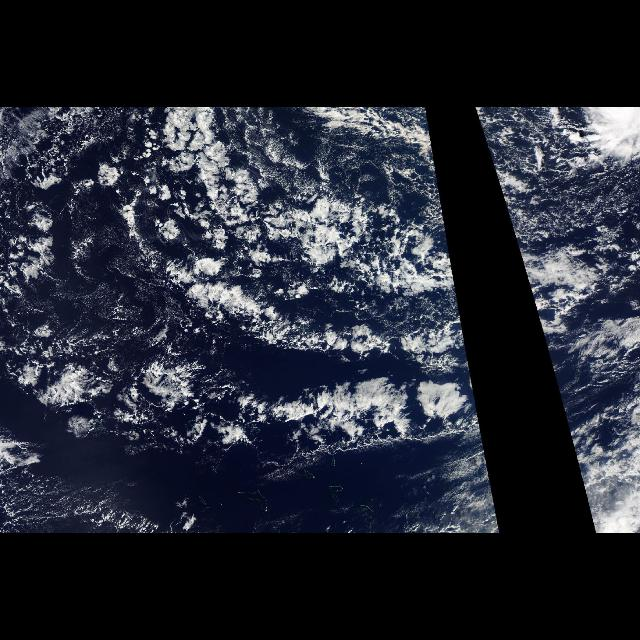Gravel: (1, 112, 466, 460), (475, 110, 609, 344)
